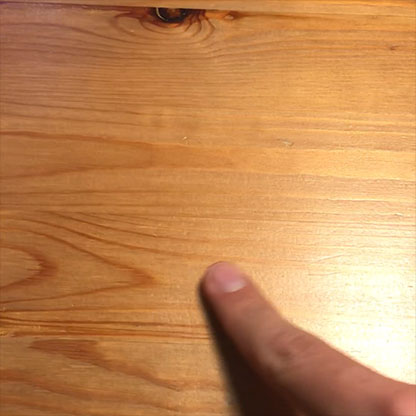fingertip: (194, 251, 259, 306)
